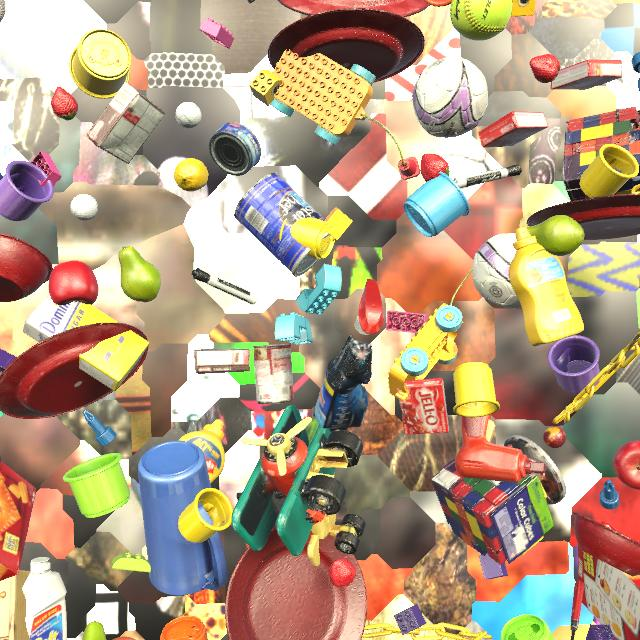ycb_002_master_chef_can: (234, 172, 336, 277)
ycb_003_cracker_box: (578, 521, 640, 640), (0, 462, 36, 581)
ycb_004_sugar_box: (23, 296, 149, 391)
ycb_005_tomato_soup_can: (253, 344, 294, 404)
ycb_006_mustard_bottle: (508, 227, 584, 346), (178, 419, 225, 484)
ycb_007_tuna_fish_can: (209, 122, 261, 176)
ycb_008_pudding_box: (86, 82, 165, 164), (194, 348, 251, 374)
ycb_009_gelatin_box: (397, 377, 449, 435), (478, 111, 548, 147), (550, 60, 623, 90)
ycb_010_potted_meat_can: (247, 0, 255, 4)
ycb_012_strawberry: (51, 87, 78, 120), (530, 54, 560, 83), (328, 557, 356, 587), (421, 154, 450, 182)
ycb_013_apple: (49, 260, 98, 305), (613, 441, 640, 490)
ycb_014_lemon: (174, 158, 208, 192)
ycb_016_pear: (118, 246, 161, 302), (527, 215, 584, 256), (82, 621, 106, 640)
ycb_017_orange: (112, 637, 136, 640)
ycb_018_plum: (0, 456, 1, 463)
